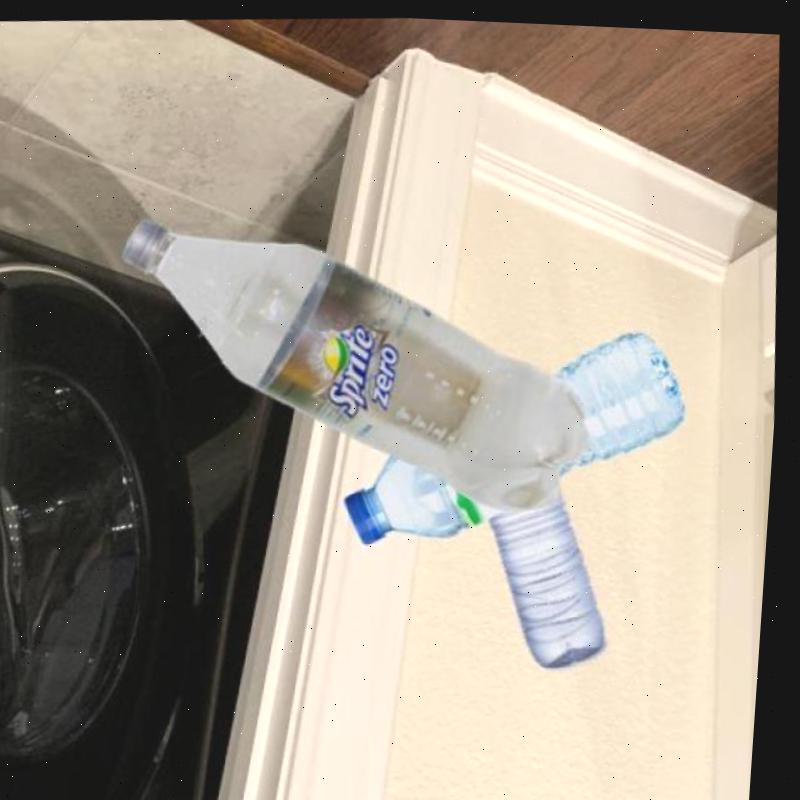botella: (107, 196, 606, 527), (338, 312, 703, 553), (481, 464, 627, 663)
